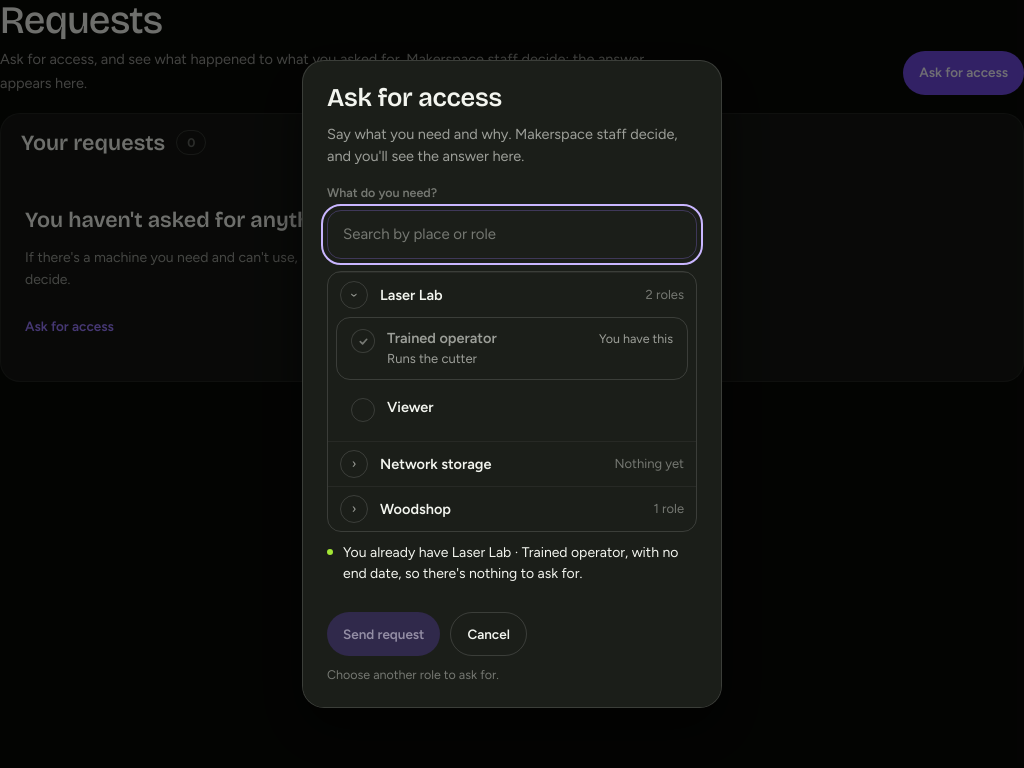
Ask for access · only what they lack, once › choosing another role brings the form back
Click the radio button labelled "Viewer": [392, 410] box [351, 398, 434, 422]
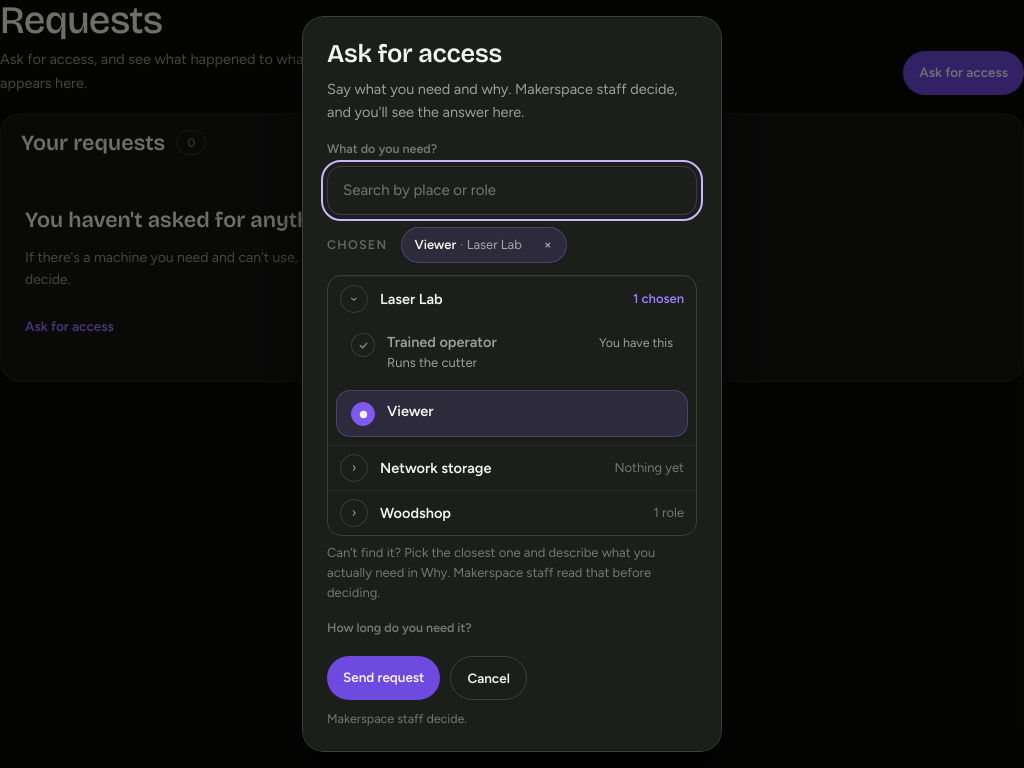
Check: the text "How long do you need it?" is shown, box [327, 620, 472, 635]
Check: the button "Send request" is enabled, box [327, 656, 440, 700]
Check: the text "with no end date, so there's nothing to ask for" is gone
